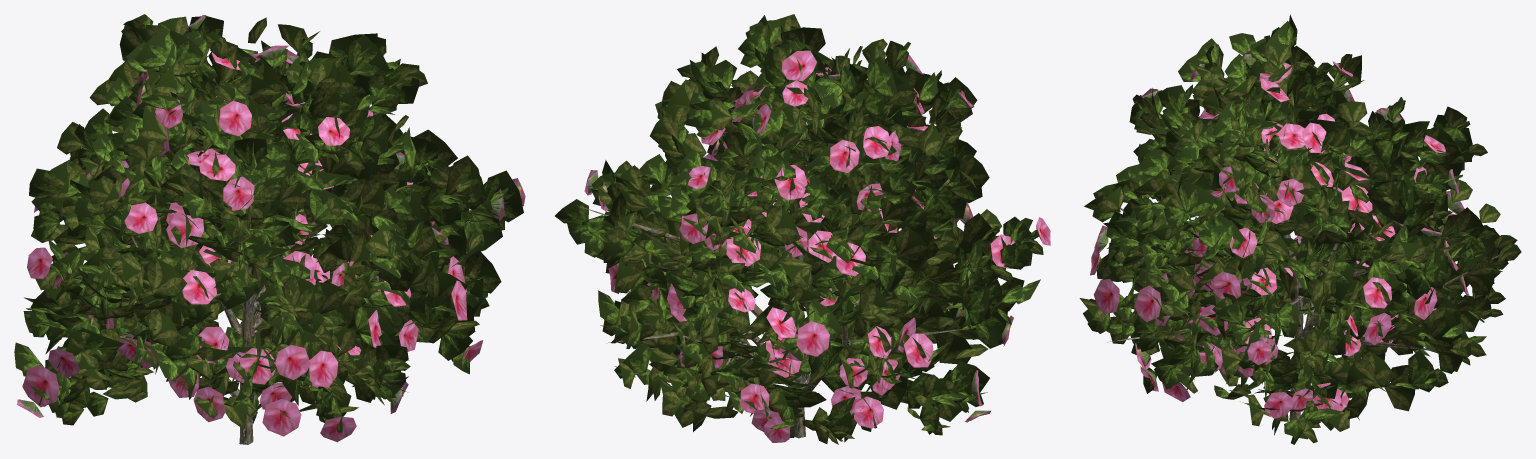
Rendered from Azalea.fbx.
3 renders of one model, left to right at view 1: azimuth 30°, elevation 25°; view 2: azimuth 150°, elevation 25°; view 3: azimuth 270°, elevation 25°, orthographic. The views are drawn at different scales.
Parts seen in each view (by area): view 1: Azalea_Hero_Flowers_2; view 2: Azalea_Hero_Flowers_2; view 3: Azalea_Hero_Flowers_2.
Part boxes in pixels (x1,y1,x2,y2): Azalea_Hero_Flowers_2: (14,14,525,444); Azalea_Hero_Flowers_2: (555,14,1050,444); Azalea_Hero_Flowers_2: (1079,14,1521,444).
Size of the model in its own units: 0.4861 by 0.4087 by 0.4415.
